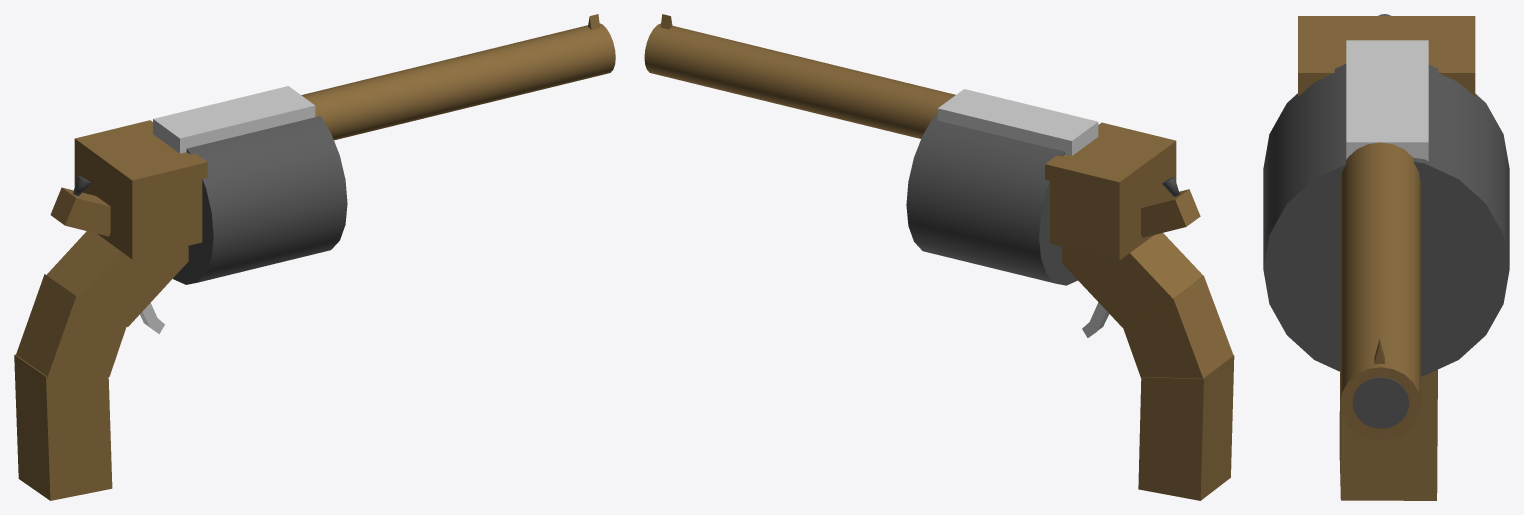
The model's file is revolver2.fbx.
The picture shows the model from 3 angles, left to right: view 1: azimuth 30°, elevation 25°; view 2: azimuth 150°, elevation 25°; view 3: azimuth 270°, elevation 25°; orthographic projection. The views are drawn at different scales.
Parts seen in each view (by area): view 1: pCylinder2, pCylinder1, pCube5, pCube12, pCube11, pCube4, pCube13, pCube6; view 2: pCylinder2, pCylinder1, pCube5, pCube12, pCube11, pCube4, pCube13, pCube6; view 3: pCylinder2, pCylinder1, pCube13, pCube5, pCube12, pCylinder3.
Part boxes in pixels (x1=…): pCylinder2: x1=173, y1=116, x2=347, y2=284; pCylinder1: x1=301, y1=23, x2=615, y2=140; pCube5: x1=74, y1=120, x2=207, y2=259; pCube12: x1=14, y1=354, x2=112, y2=500; pCube11: x1=16, y1=274, x2=126, y2=379; pCube4: x1=46, y1=231, x2=188, y2=326; pCube13: x1=153, y1=86, x2=315, y2=153; pCube6: x1=50, y1=187, x2=110, y2=236; pCylinder2: x1=906, y1=113, x2=1077, y2=285; pCylinder1: x1=644, y1=23, x2=955, y2=138; pCube5: x1=1045, y1=122, x2=1176, y2=260; pCube12: x1=1138, y1=355, x2=1234, y2=500; pCube11: x1=1123, y1=276, x2=1233, y2=378; pCube4: x1=1062, y1=233, x2=1203, y2=327; pCube13: x1=937, y1=89, x2=1098, y2=155; pCube6: x1=1141, y1=189, x2=1200, y2=237; pCylinder2: x1=1263, y1=64, x2=1509, y2=376; pCylinder1: x1=1340, y1=142, x2=1420, y2=440; pCube13: x1=1346, y1=40, x2=1428, y2=160; pCube5: x1=1298, y1=16, x2=1475, y2=96; pCube12: x1=1339, y1=369, x2=1437, y2=500; pCylinder3: x1=1352, y1=377, x2=1409, y2=428.
Bounding box in the file's own units: 7.57 × 4.36 × 1.83.
